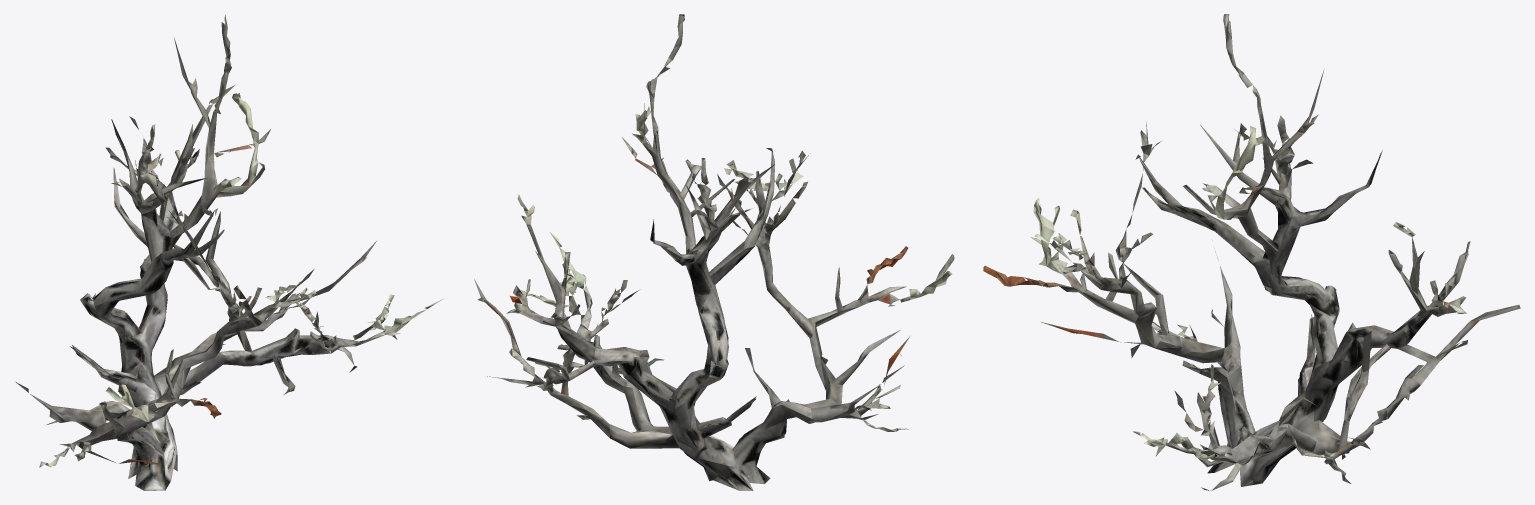
The model's file is deadwood.glb.
The picture shows the model from 3 angles, left to right: view 1: azimuth 30°, elevation 25°; view 2: azimuth 150°, elevation 25°; view 3: azimuth 270°, elevation 25°; orthographic projection. The views are drawn at different scales.
Parts seen in each view (by area): view 1: Mesh_0; view 2: Mesh_0; view 3: Mesh_0.
Part boxes in pixels (x1,y1,x2,y2): Mesh_0: [16, 14, 442, 490]; Mesh_0: [474, 14, 954, 490]; Mesh_0: [983, 14, 1520, 490].
Size of the model in its own units: 1.48 by 1.6 by 1.57.
Materials: 1 (1 with a texture image).
